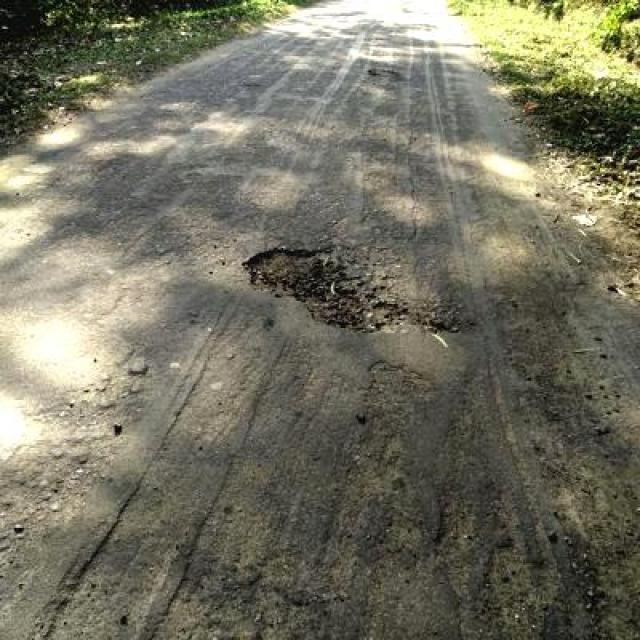pothole: (237, 243, 405, 333), (368, 66, 403, 81)
